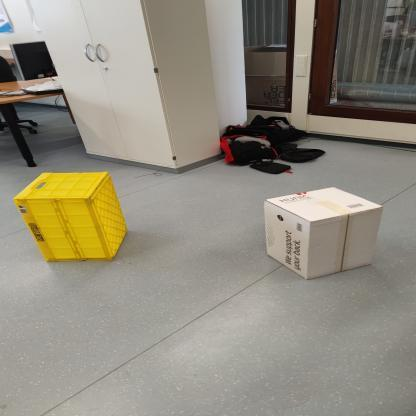-: (239, 177, 397, 288), (13, 162, 133, 273)
